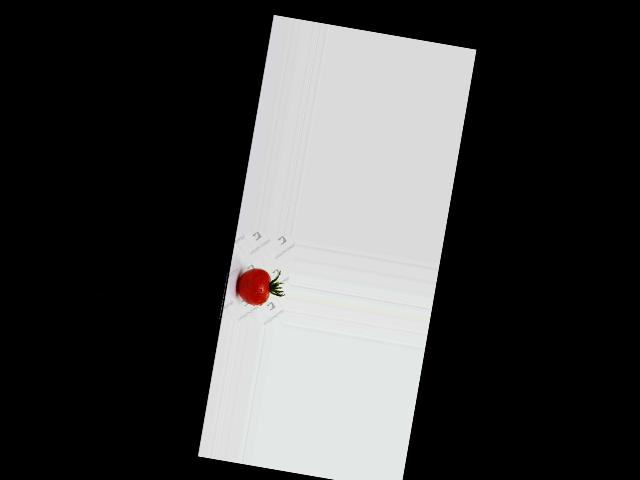tomato: (234, 265, 272, 306)
